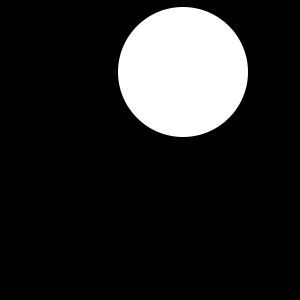rectangle: (118, 7, 248, 137)
